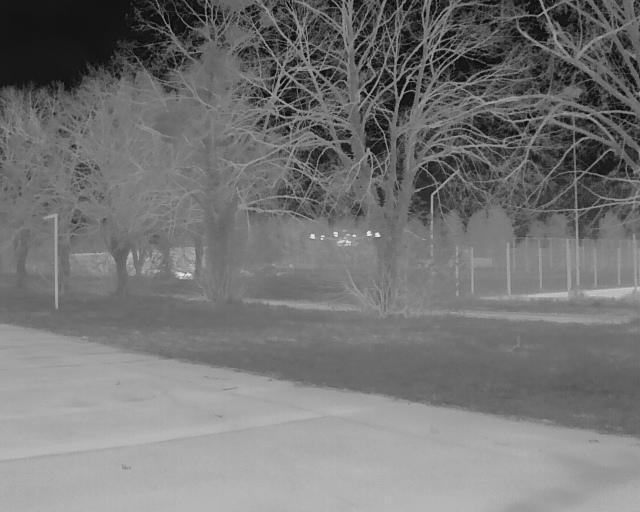drone: (300, 223, 390, 265)
